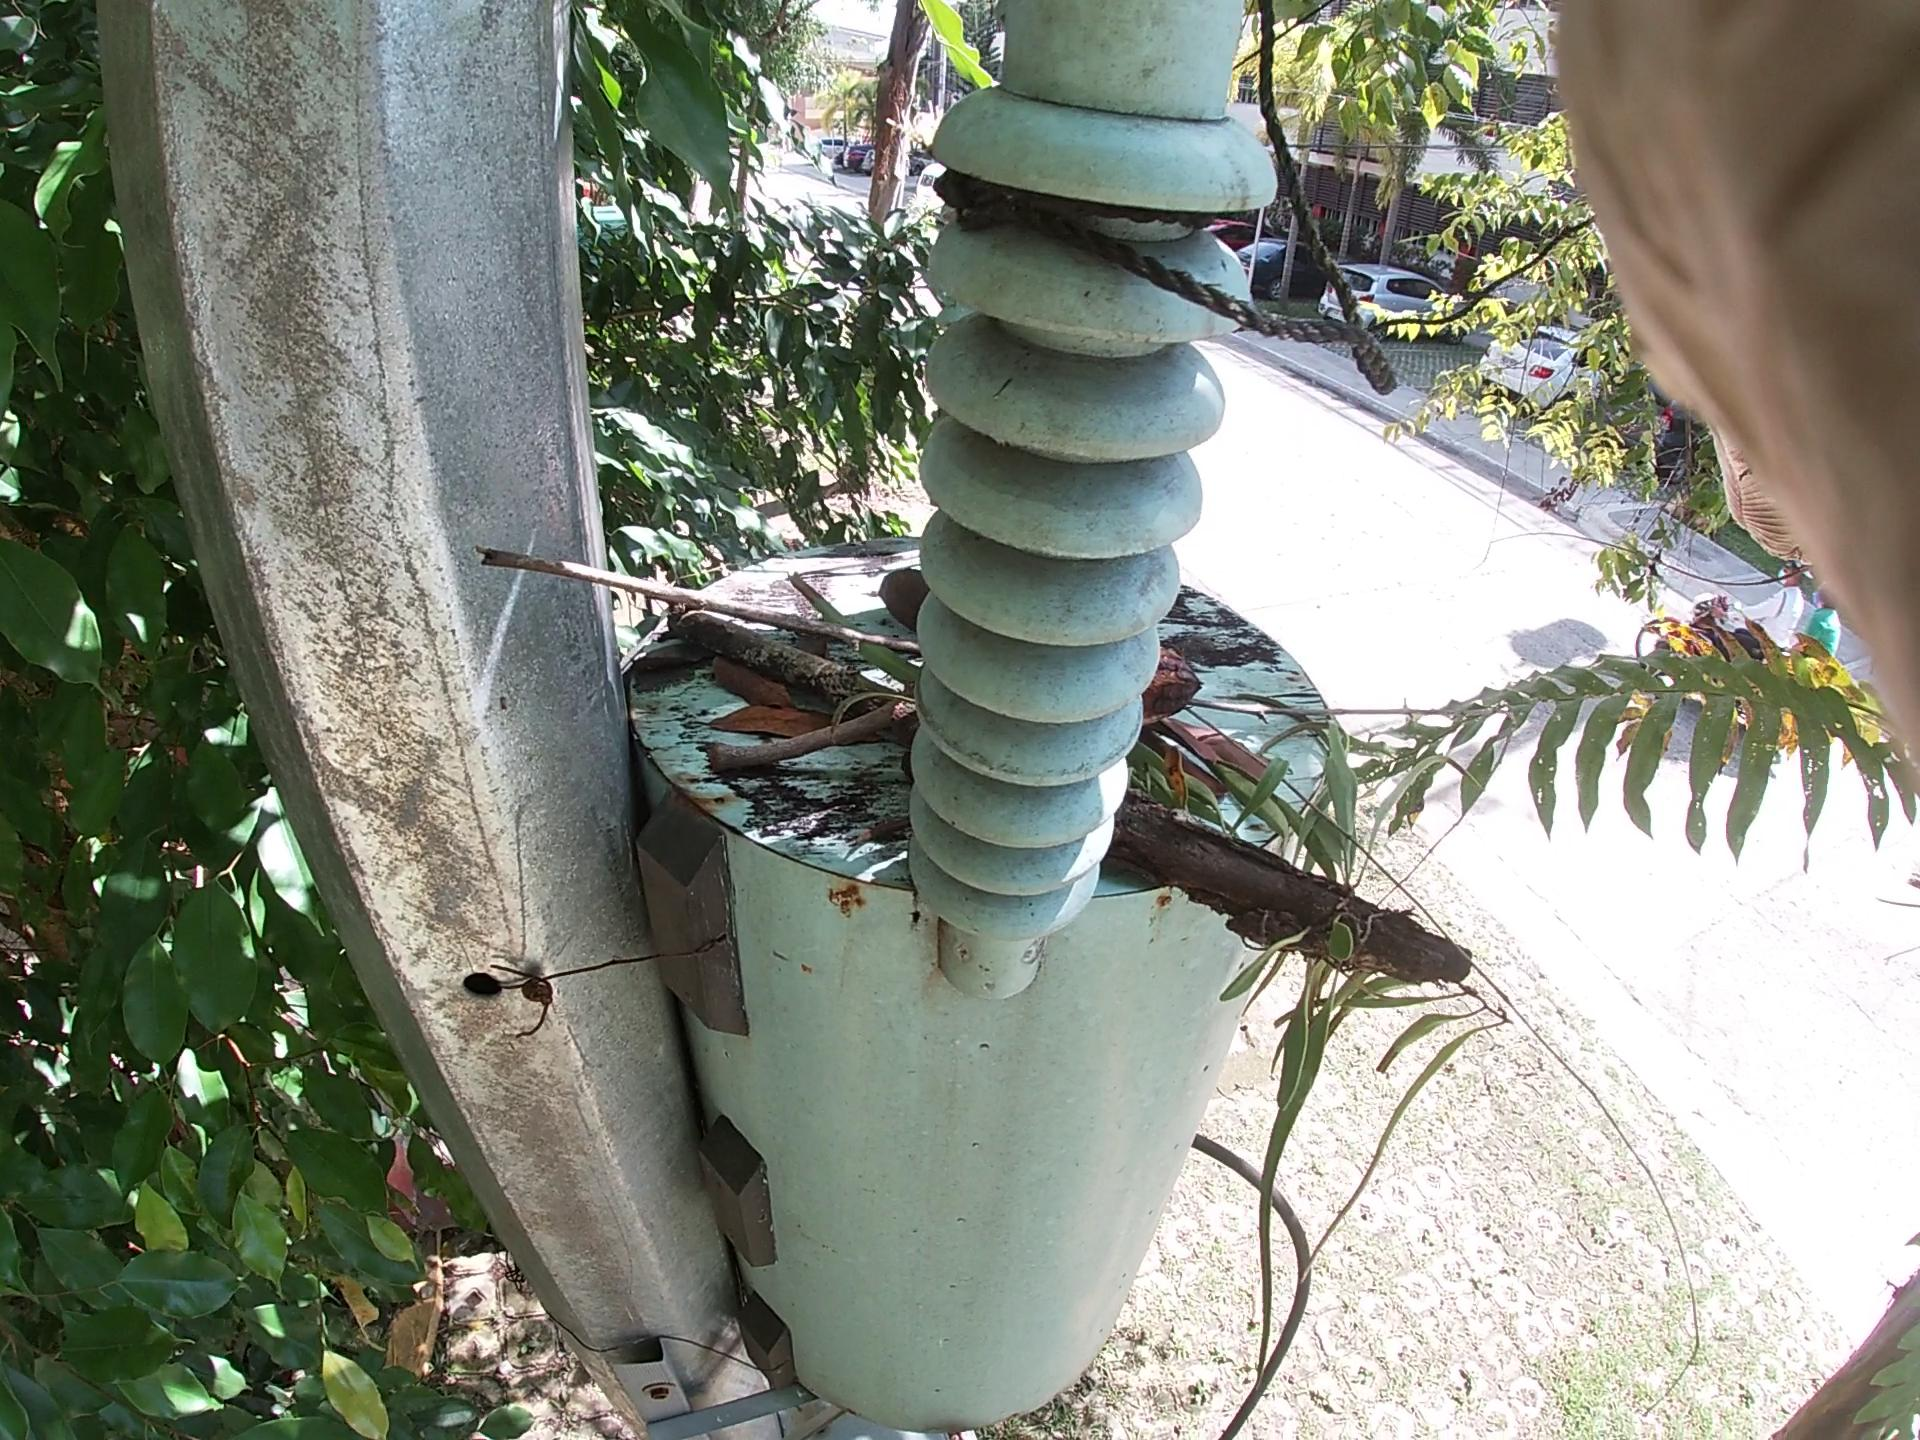branch with leaves: (679, 613, 1506, 1035)
leaf: (712, 702, 845, 740), (705, 650, 803, 694)
mahogany fruit: (901, 517, 1025, 649), (1120, 602, 1223, 711)
tree branch: (466, 546, 924, 678), (701, 702, 952, 768)
